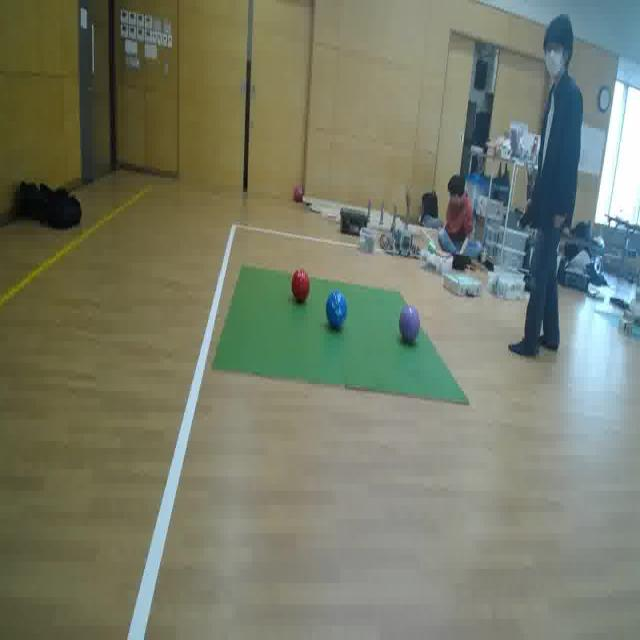blue_ball: (326, 290, 347, 330)
purple_ball: (398, 306, 420, 345)
red_ball: (292, 266, 310, 300)
